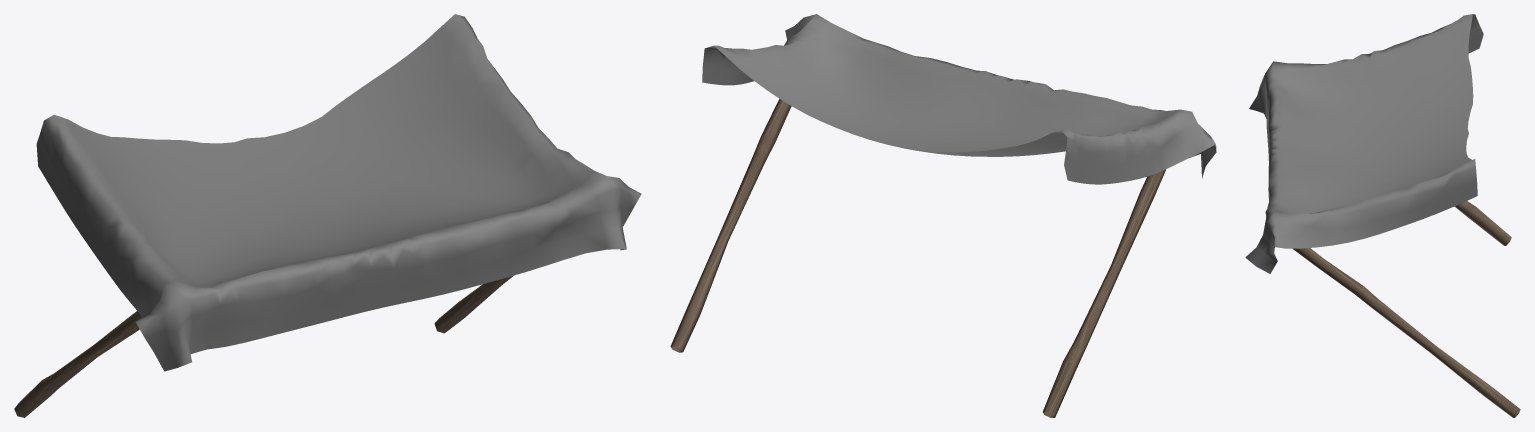
The model's file is SM_windowcover_cloth.fbx.
3 views of the same model, side by side, from view 1: azimuth 30°, elevation 25°; view 2: azimuth 150°, elevation 25°; view 3: azimuth 270°, elevation 25° (orthographic). The views are drawn at different scales.
Visible parts, largest first — view 1: Object32599; view 2: Object32599; view 3: Object32599.
Part boxes in pixels (box(x1,y1,x2,y2)): Object32599: box(14, 14, 641, 417); Object32599: box(670, 14, 1216, 417); Object32599: box(1245, 14, 1520, 417).
Size of the model in its own units: 125 by 81.03 by 79.74.
